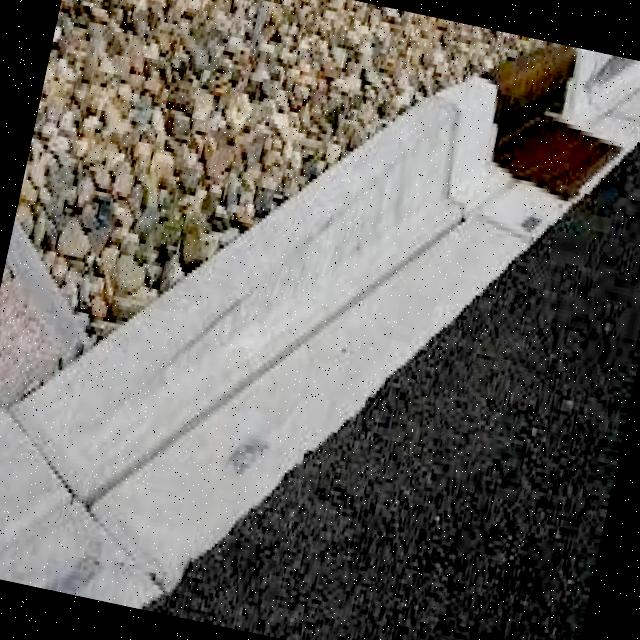curb: (1, 135, 453, 640), (330, 88, 563, 305), (456, 29, 640, 222)
